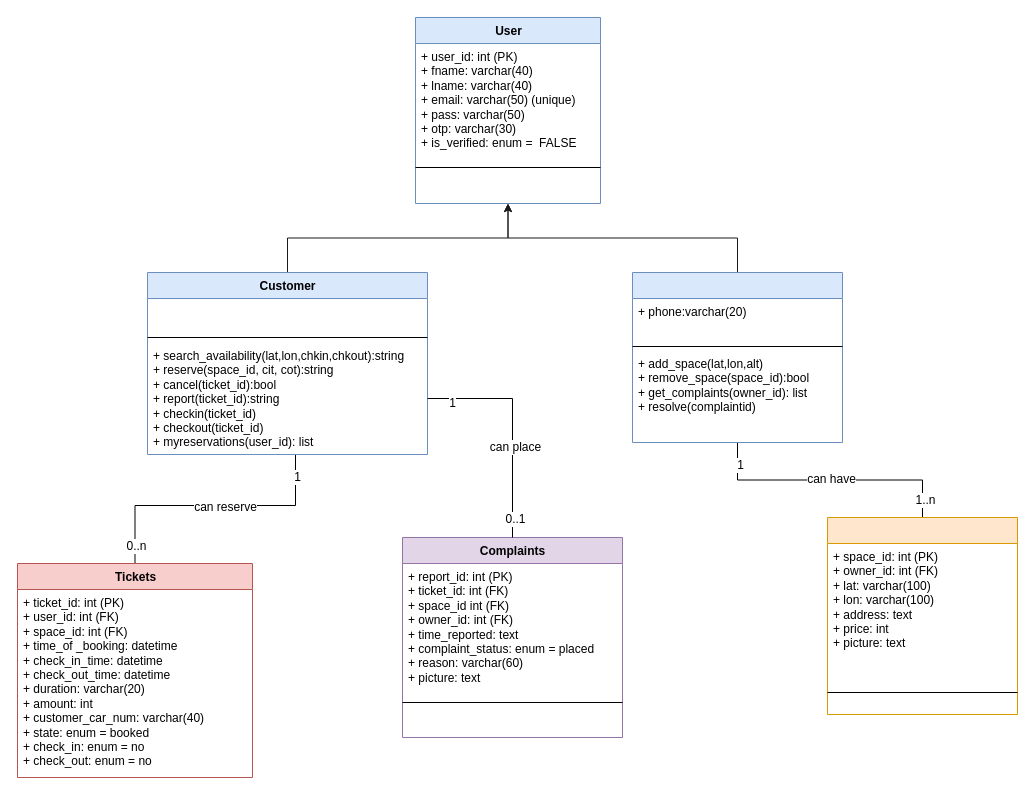
Image size: 1035x795. Some labels were removed from this diagram. Here are the shapes that lost their labels. From the top down, the box of each, then its label:
(632, 272, 842, 442): Parking Owner
(826, 516, 1018, 714): ParkingSpaces
